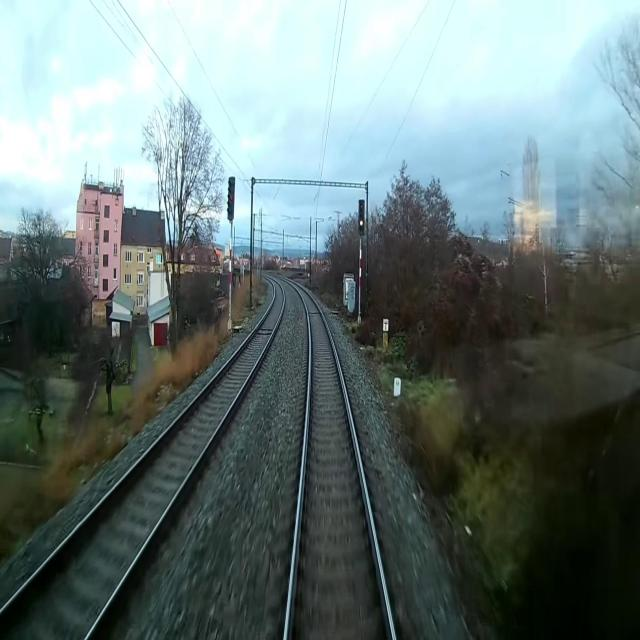rail-track: (0, 281, 283, 639), (287, 284, 392, 639)
